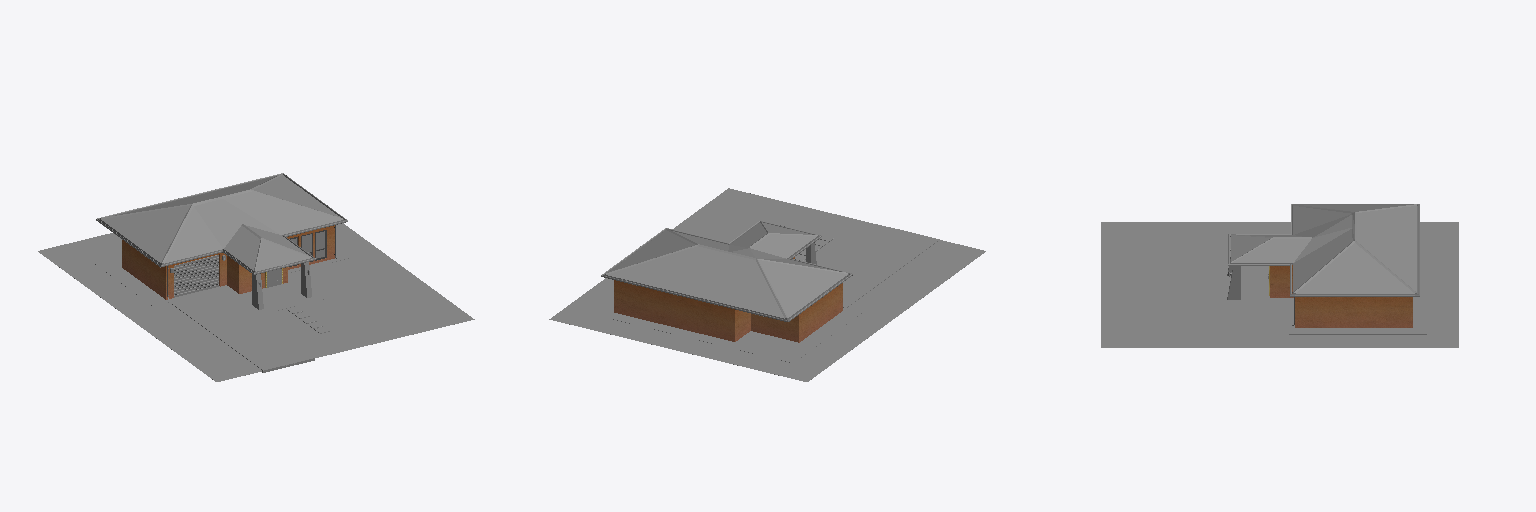
3 views of the same model, side by side, from view 1: azimuth 30°, elevation 25°; view 2: azimuth 150°, elevation 25°; view 3: azimuth 270°, elevation 25° (orthographic).
Parts seen in each view (by area): view 1: Lawn, Roof, Ground_Driveway, Ground_Main, House_Foundation, Garage_Door, GutterComplete, Roof_Ridges; view 2: Lawn, Roof, House_Foundation, Ground_Driveway, Ground_Main, GutterComplete, Roof_Ridges; view 3: Lawn, Roof, House_Foundation, Ground_Main, Ground_Driveway, GutterComplete, Roof_Ridges.
Part boxes in pixels (x1,y1,x2,y2): Lawn: (38,223,474,381); Roof: (101,175,341,271); Ground_Driveway: (170,289,314,372); Ground_Main: (83,246,352,315); House_Foundation: (122,225,334,299); Garage_Door: (174,255,218,297); GutterComplete: (96,173,347,274); Roof_Ridges: (100,174,343,271); Lawn: (549,188,985,381); Roof: (607,222,848,318); House_Foundation: (614,257,842,342); Ground_Driveway: (832,227,939,307); Ground_Main: (593,300,862,362); GutterComplete: (601,221,852,321); Roof_Ridges: (605,221,848,319); Lawn: (1101,222,1458,347); Roof: (1231,205,1416,293); House_Foundation: (1270,265,1412,327); Ground_Main: (1217,237,1426,334); Ground_Driveway: (1101,245,1268,269); GutterComplete: (1228,204,1419,296); Roof_Ridges: (1231,204,1416,293).
Size of the model in its own units: 636 by 148 by 766.
18 materials, 2 textured.